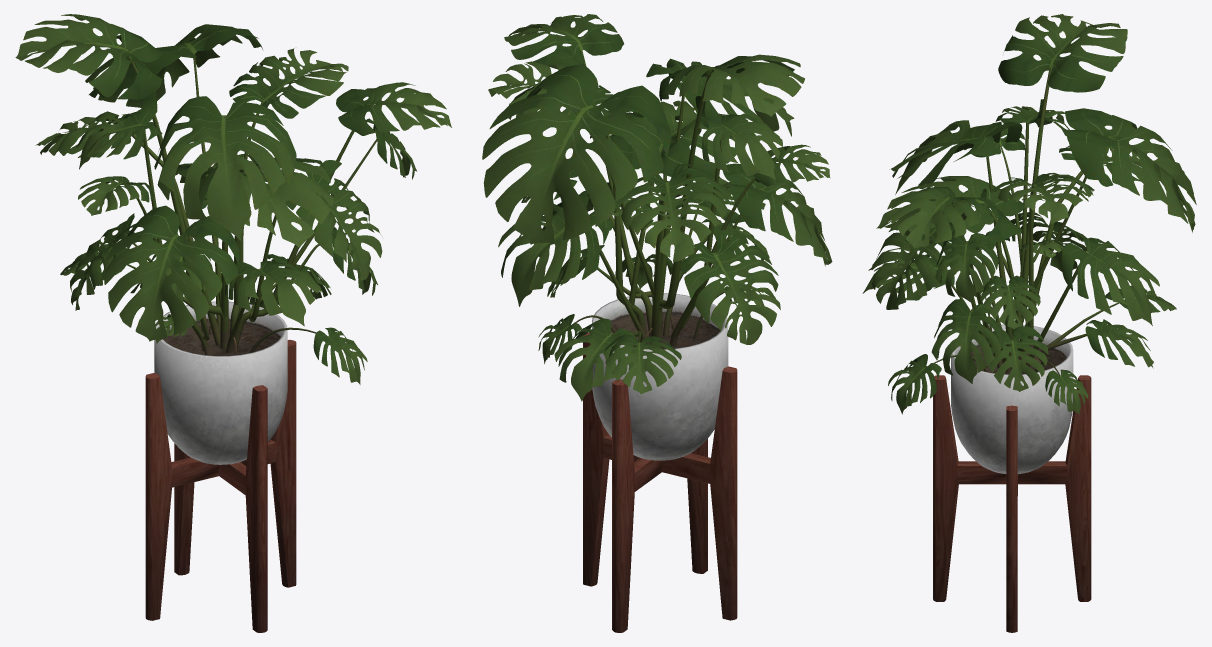
The model's file is monstera_deliciosa_potted_mid_century_pl.glb.
3 views of the same model, side by side, from view 1: azimuth 30°, elevation 25°; view 2: azimuth 150°, elevation 25°; view 3: azimuth 270°, elevation 25° (orthographic). The views are drawn at different scales.
Parts seen in each view (by area): view 1: Leaves, Stand, Pot_LP, root_HP_1_Mat.2_0; view 2: Leaves, Stand, Pot_LP, root_HP_1_Mat.2_0; view 3: Leaves, Stand, Pot_LP, root_HP_1_Mat.2_0.
Boxes of the visible parts, box(x1,y1,x2,y2) form: Leaves: box(15, 14, 451, 384); Stand: box(145, 339, 296, 632); Pot_LP: box(154, 301, 287, 464); root_HP_1_Mat.2_0: box(124, 53, 376, 355); Leaves: box(482, 14, 832, 401); Stand: box(583, 332, 737, 632); Pot_LP: box(592, 293, 728, 460); root_HP_1_Mat.2_0: box(559, 50, 755, 346); Leaves: box(862, 14, 1196, 414); Stand: box(933, 375, 1091, 632); Pot_LP: box(951, 324, 1073, 473); root_HP_1_Mat.2_0: box(933, 68, 1124, 375).
Size of the model in its own units: 1.01 by 1.58 by 0.9162.
3 materials, 3 textured.
